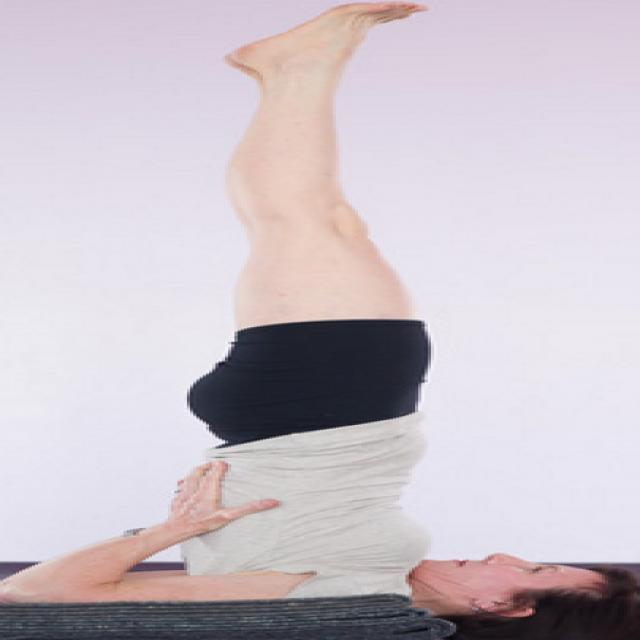yoga-pose shoulderstand: (22, 0, 615, 622)
